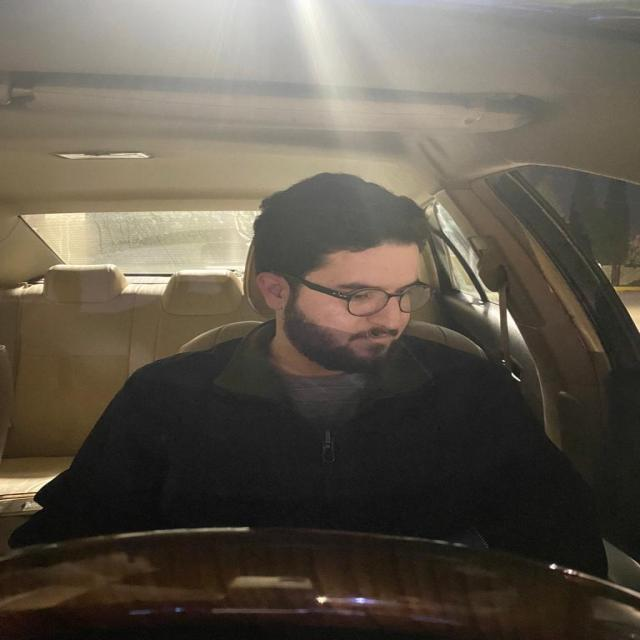person: (243, 167, 432, 374)
